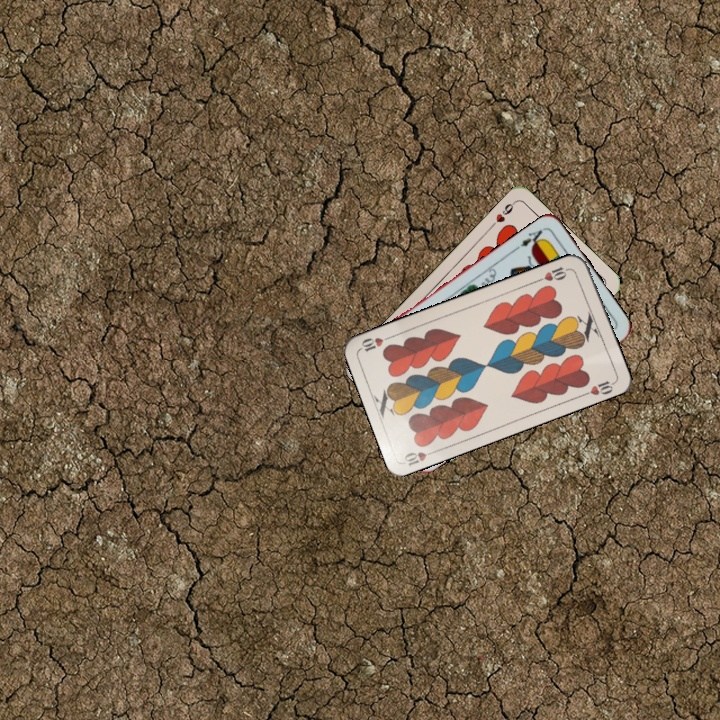EA: (512, 225, 548, 253)
H10: (400, 446, 440, 469), (534, 262, 573, 284)
H9: (486, 198, 518, 230)
